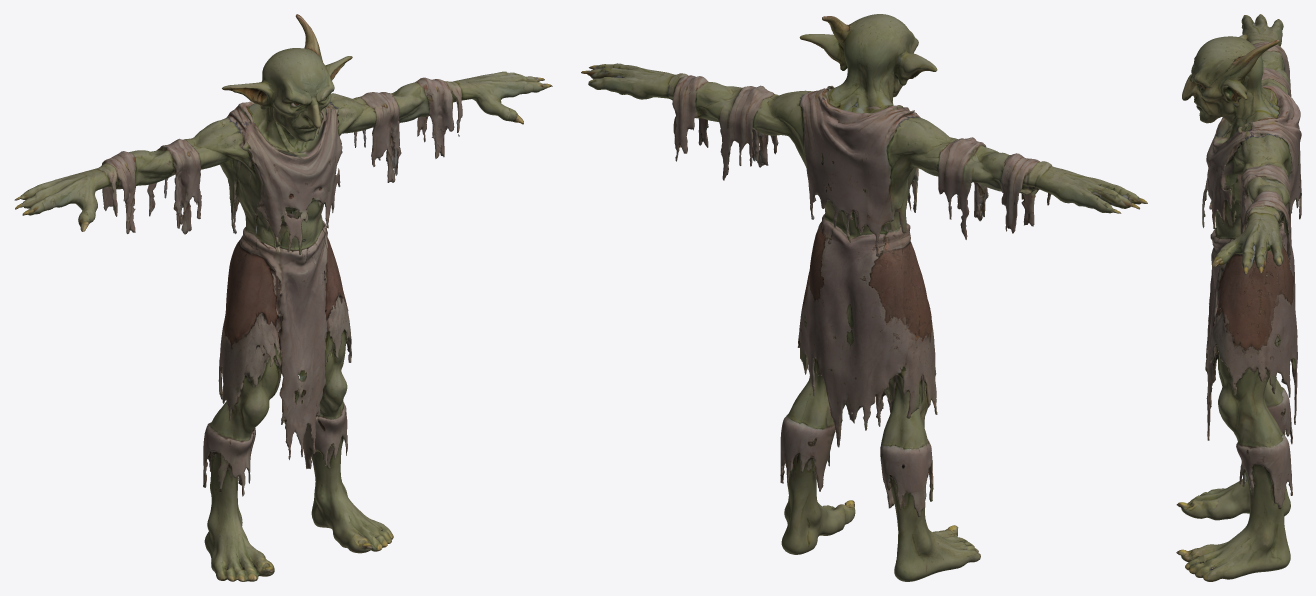
File: Goblin.glb
The picture shows the model from 3 angles, left to right: view 1: azimuth 30°, elevation 25°; view 2: azimuth 150°, elevation 25°; view 3: azimuth 270°, elevation 25°; orthographic projection. The views are drawn at different scales.
Visible parts, largest first — view 1: texture_mapping; view 2: texture_mapping; view 3: texture_mapping.
Part boxes in pixels (<box>): texture_mapping: <box>14,14,552,581</box>; texture_mapping: <box>581,14,1147,581</box>; texture_mapping: <box>1176,14,1301,581</box>.
Size of the model in its own units: 0.9977 by 0.9271 by 0.205.
1 material, 1 textured.
